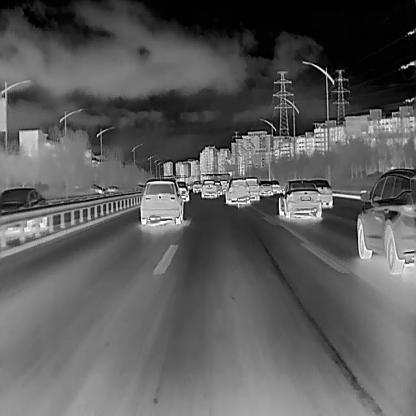car: (355, 168, 415, 274), (0, 184, 49, 235), (138, 176, 183, 225), (277, 178, 322, 218), (223, 176, 251, 204), (310, 177, 334, 207), (244, 175, 259, 200), (199, 178, 216, 198), (176, 178, 189, 200), (256, 179, 272, 196), (89, 182, 104, 195), (212, 180, 223, 196), (269, 178, 280, 193), (103, 184, 118, 192), (191, 178, 200, 191)
